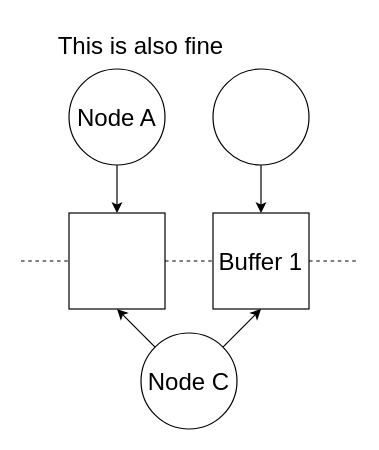
This 379x450 diagram has some shape labels left out. Each missing label, with the centre of its shape:
"Buffer 0" goes at (x=116, y=260).
"Node B" goes at (x=260, y=116).
